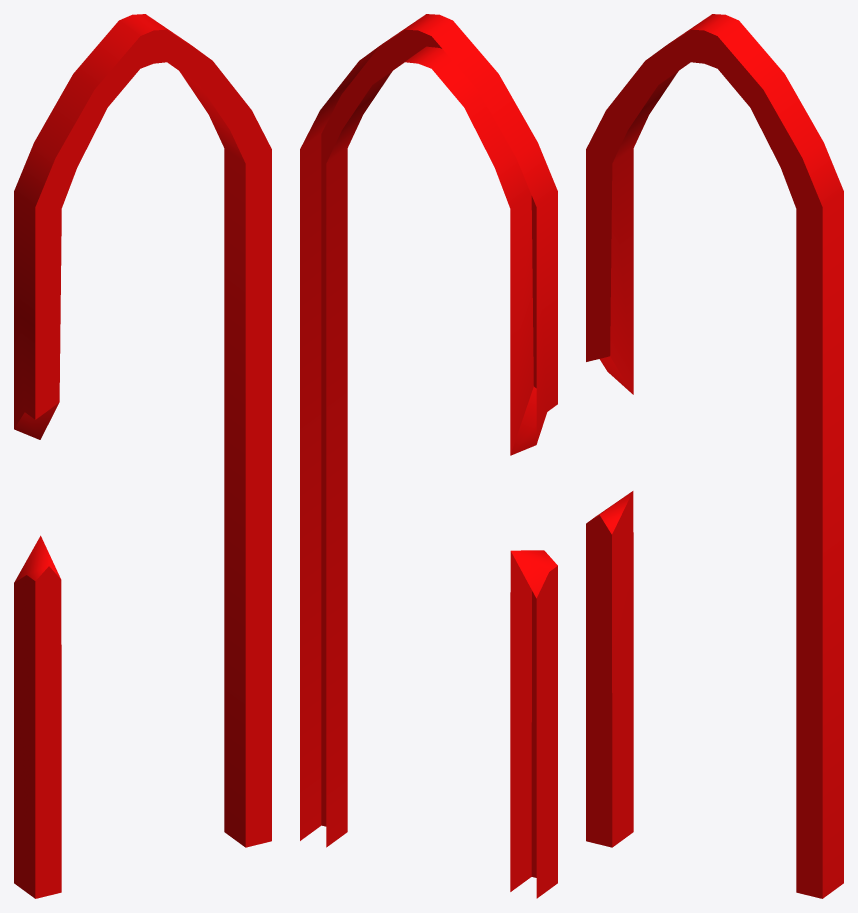
Rendered from part_3_props_mesh_10.fbx.
The picture shows the model from 3 angles, left to right: view 1: azimuth 30°, elevation 25°; view 2: azimuth 150°, elevation 25°; view 3: azimuth 330°, elevation 25°; orthographic projection.
Parts seen in each view (by area): view 1: part_3_bake_mesh_08; view 2: part_3_bake_mesh_08; view 3: part_3_bake_mesh_08.
Boxes of the visible parts, bbox=[...] form: part_3_bake_mesh_08: bbox=[14, 14, 271, 898]; part_3_bake_mesh_08: bbox=[300, 14, 557, 898]; part_3_bake_mesh_08: bbox=[586, 14, 843, 898].
Size of the model in its own units: 2.94 by 9.97 by 0.4619.
